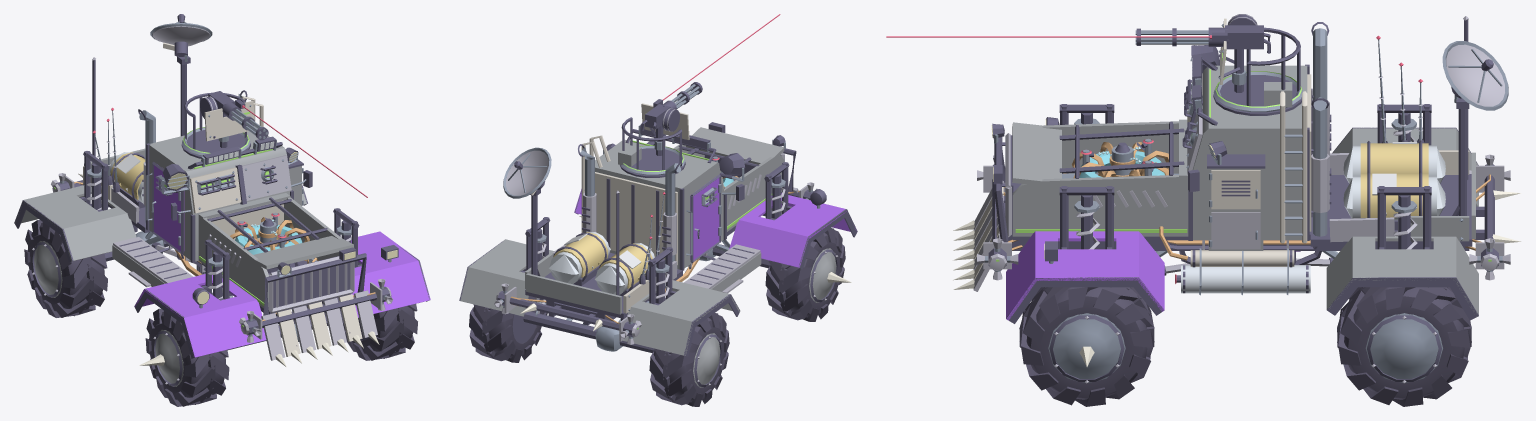
Rendered from warrig_a.glb.
3 renders of one model, left to right at view 1: azimuth 30°, elevation 25°; view 2: azimuth 150°, elevation 25°; view 3: azimuth 270°, elevation 25°, orthographic. The views are drawn at different scales.
Parts seen in each view (by area): view 1: wa_wa_chassis_body_30, wa_wa_chassis_metal_20, wa_wa_chassis_primer_30, wa_w2_wa_wheel2_tire_50, wa_wa_chassis_bleach_20, wa_w0_wa_wheel0_tire_50, wa_wa_chassis_dark_20, wa_wa_chassis_primer_70, wa_wa_chassis_primer_50, wa_wa_chassis_dark_15, wa_w1_wa_wheel1_tire_50, wa_wa_chassis_dark_8 (+26 smaller); view 2: wa_wa_chassis_primer_30, wa_wa_chassis_body_30, wa_wa_chassis_bleach_20, wa_w0_wa_wheel0_tire_50, wa_w2_wa_wheel2_tire_50, wa_wa_chassis_dark_20, wa_wa_chassis_primer_70, wa_wa_chassis_dark_15, wa_wa_chassis_metal_20, wa_wa_chassis_primer_20, wa_w3_wa_wheel3_tire_50, wa_wa_chassis_dark_12 (+30 smaller); view 3: wa_wa_chassis_primer_50, wa_w1_wa_wheel1_tire_50, wa_w3_wa_wheel3_tire_50, wa_wa_chassis_primer_70, wa_wa_chassis_primer_30, wa_wa_chassis_body_30, wa_wa_chassis_dark_15, wa_wa_chassis_metal_20, wa_wa_chassis_dark_12, wa_wa_chassis_dark_20, wa_w3_wa_wheel3_steel_20, wa_wa_chassis_tank_25 (+37 smaller).
Part boxes in pixels (box(x1,y1,x2,y2)): wa_wa_chassis_body_30: box(134, 231, 430, 357); wa_wa_chassis_metal_20: box(111, 26, 377, 360); wa_wa_chassis_primer_30: box(15, 185, 307, 261); wa_w2_wa_wheel2_tire_50: box(24, 220, 107, 317); wa_wa_chassis_bleach_20: box(83, 166, 362, 356); wa_w0_wa_wheel0_tire_50: box(145, 308, 229, 406); wa_wa_chassis_dark_20: box(56, 143, 389, 335); wa_wa_chassis_primer_70: box(149, 127, 291, 261); wa_wa_chassis_primer_50: box(198, 197, 342, 309); wa_wa_chassis_dark_15: box(83, 64, 359, 299); wa_w1_wa_wheel1_tire_50: box(342, 261, 417, 360); wa_wa_chassis_dark_8: box(80, 14, 361, 300); wa_wa_chassis_primer_30: box(460, 239, 739, 355); wa_wa_chassis_body_30: box(574, 189, 856, 267); wa_wa_chassis_bleach_20: box(595, 172, 781, 313); wa_w0_wa_wheel0_tire_50: box(765, 228, 845, 321); wa_w2_wa_wheel2_tire_50: box(649, 313, 729, 406); wa_wa_chassis_dark_20: box(497, 135, 813, 337); wa_wa_chassis_primer_70: box(595, 140, 724, 269); wa_wa_chassis_dark_15: box(525, 122, 789, 304); wa_wa_chassis_metal_20: box(506, 150, 798, 288); wa_wa_chassis_primer_20: box(525, 252, 761, 314); wa_w3_wa_wheel3_tire_50: box(469, 268, 547, 362); wa_wa_chassis_dark_12: box(459, 129, 857, 356); wa_wa_chassis_primer_50: box(1012, 121, 1188, 236); wa_w1_wa_wheel1_tire_50: box(1019, 287, 1154, 406); wa_w3_wa_wheel3_tire_50: box(1337, 287, 1471, 406); wa_wa_chassis_primer_70: box(1192, 65, 1307, 239); wa_wa_chassis_primer_30: box(1179, 119, 1478, 316); wa_wa_chassis_body_30: box(1006, 231, 1164, 320); wa_wa_chassis_dark_15: box(993, 54, 1466, 249); wa_wa_chassis_metal_20: box(973, 44, 1504, 291); wa_wa_chassis_dark_12: box(1006, 58, 1478, 323); wa_wa_chassis_dark_20: box(988, 45, 1498, 270); wa_w3_wa_wheel3_steel_20: box(1365, 313, 1442, 382); wa_wa_chassis_tank_25: box(1181, 265, 1310, 293).
Size of the model in its own units: 6.68 by 5.41 by 9.81.
